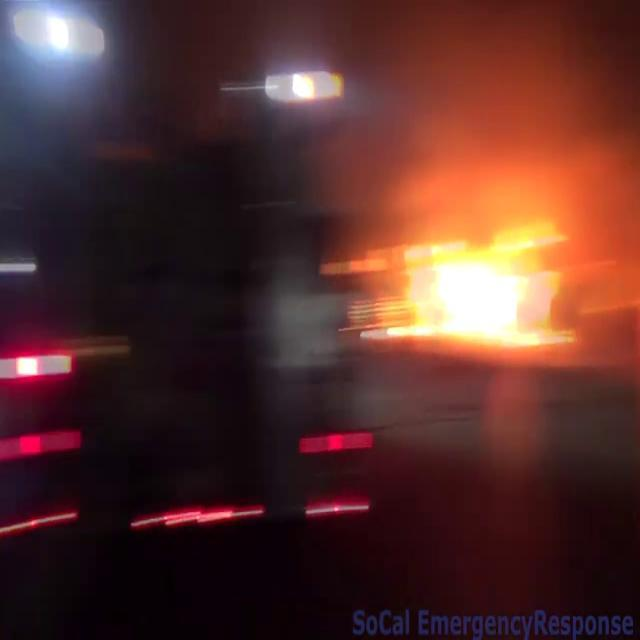Fire: (381, 212, 573, 354)
Smoke: (331, 0, 637, 305)
